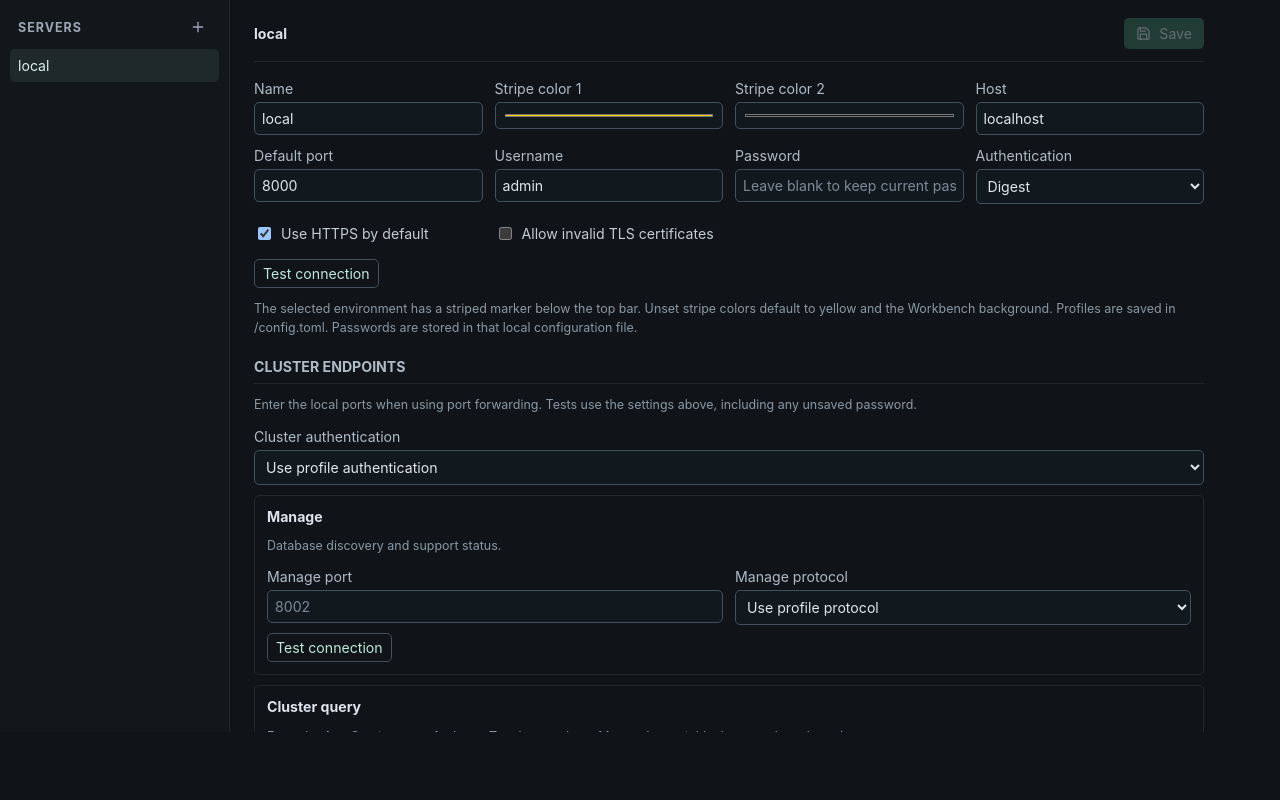
server workspace › tests an unsaved forwarded Manage endpoint and exposes the server error before saving
The image size is (1280, 800).
In the number field labelled "Manage port": (495, 607) top-left (267, 590), bottom-right (723, 623), type "18002"
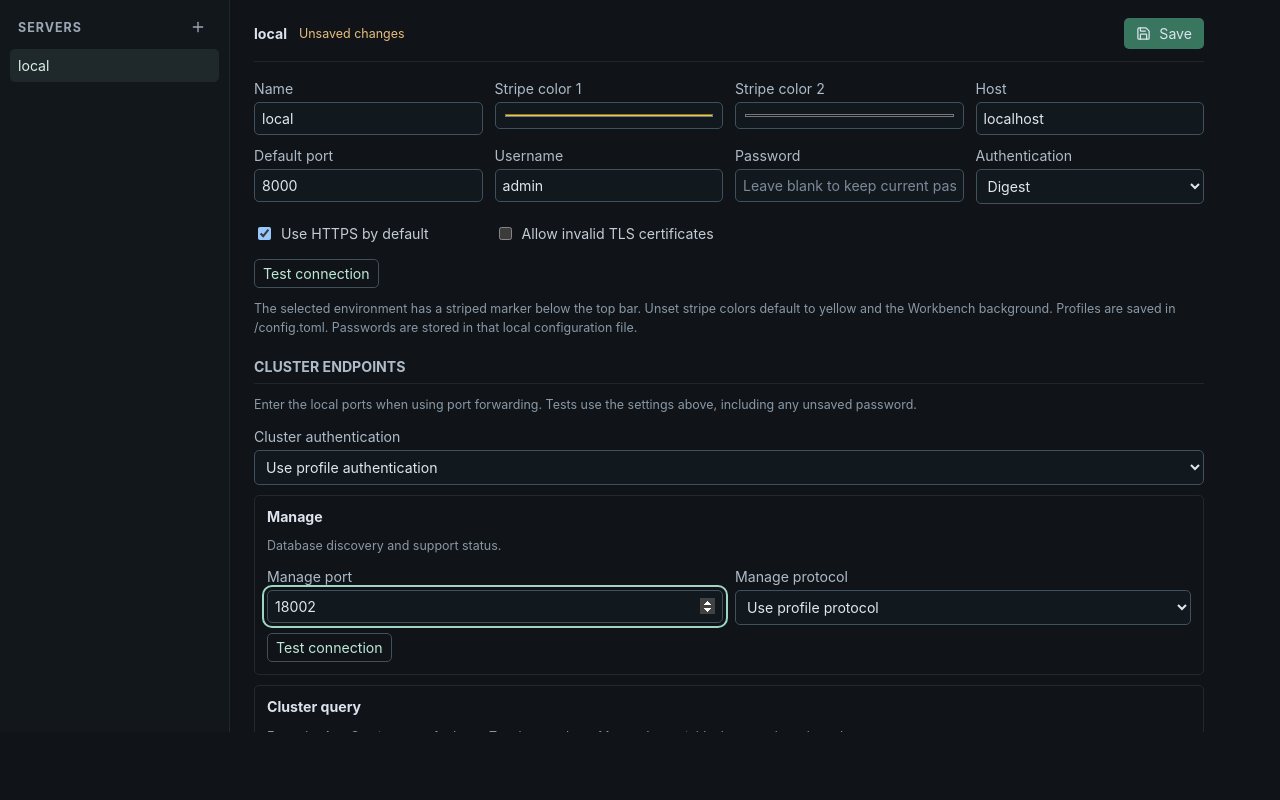
Select "HTTP" in the dropdown labelled "Manage protocol": (963, 608) top-left (735, 590), bottom-right (1191, 625)
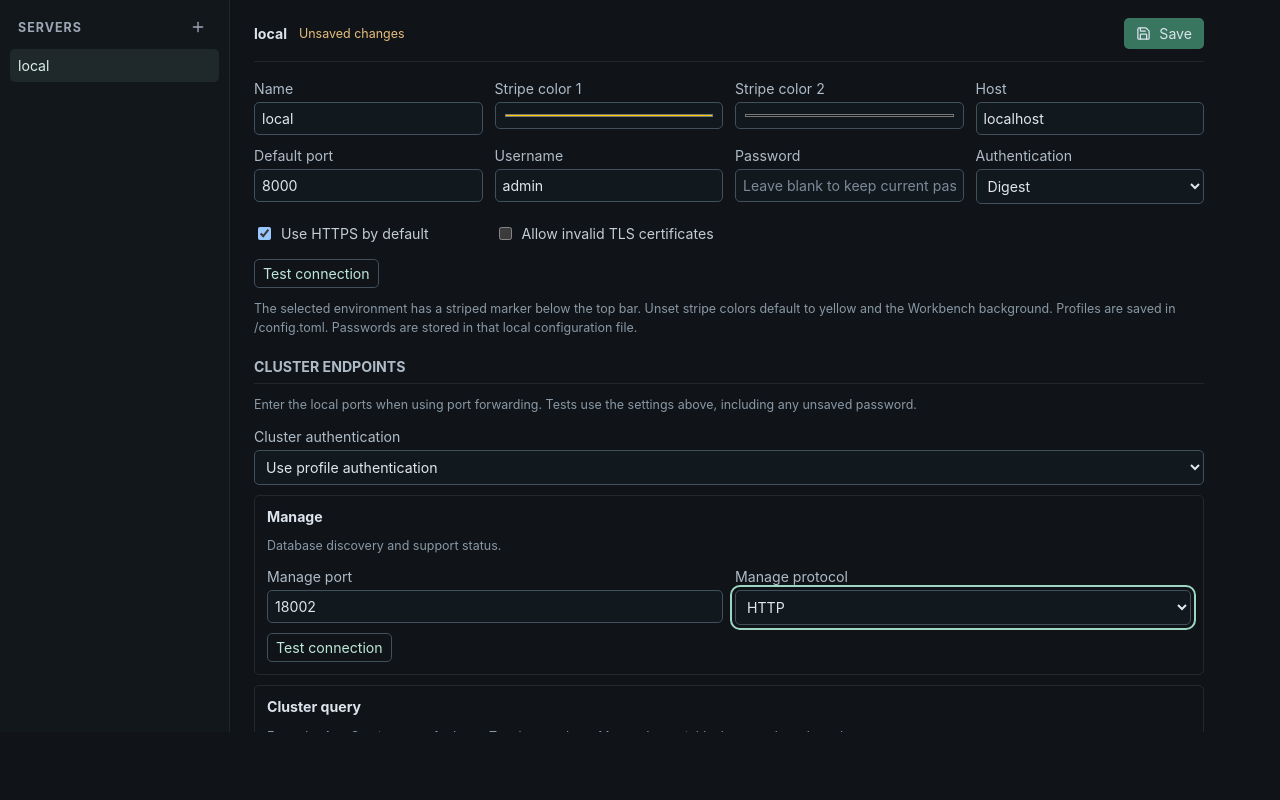
Click the button with aria-label "Test Manage connection": (329, 648) top-left (267, 633), bottom-right (392, 662)
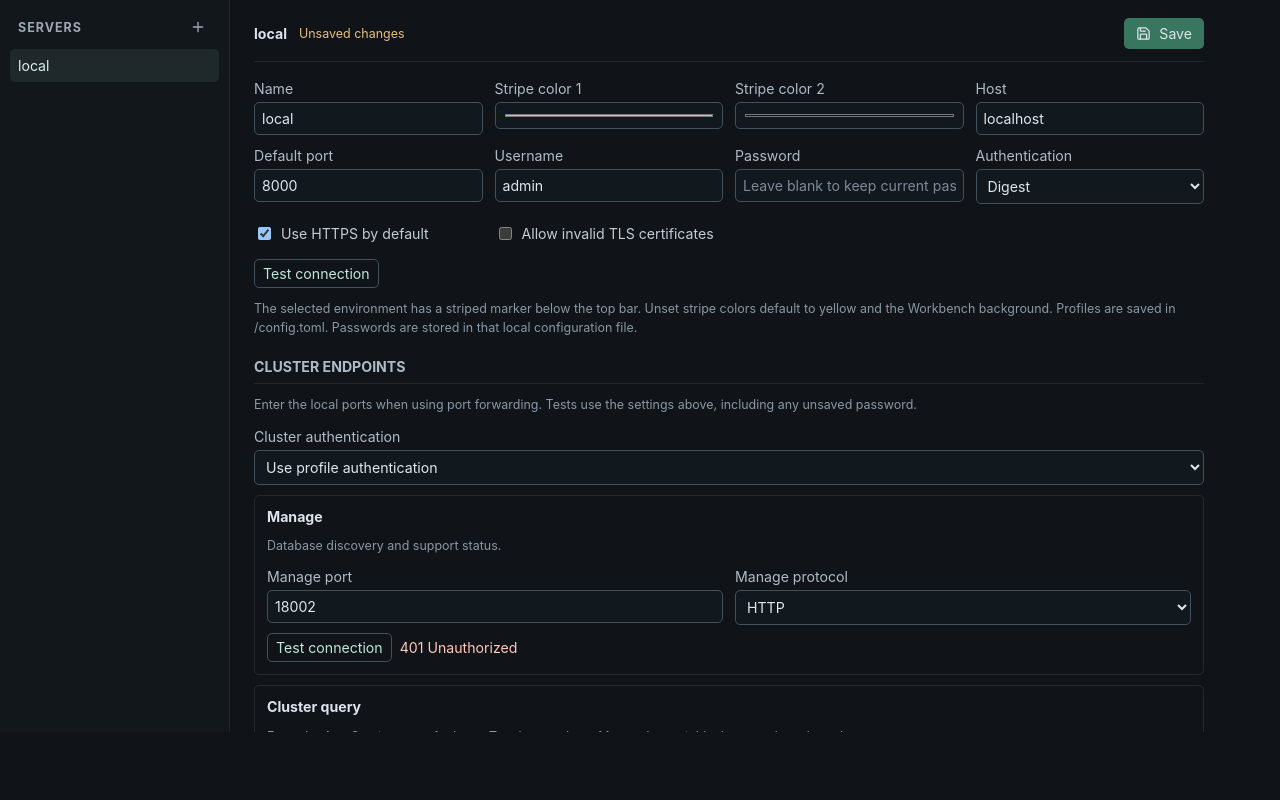
Now the message reads "401 Unauthorized", box top-left (400, 639), bottom-right (517, 656)
Click the button with aria-label "Test Manage connection": (329, 648) top-left (267, 633), bottom-right (392, 662)
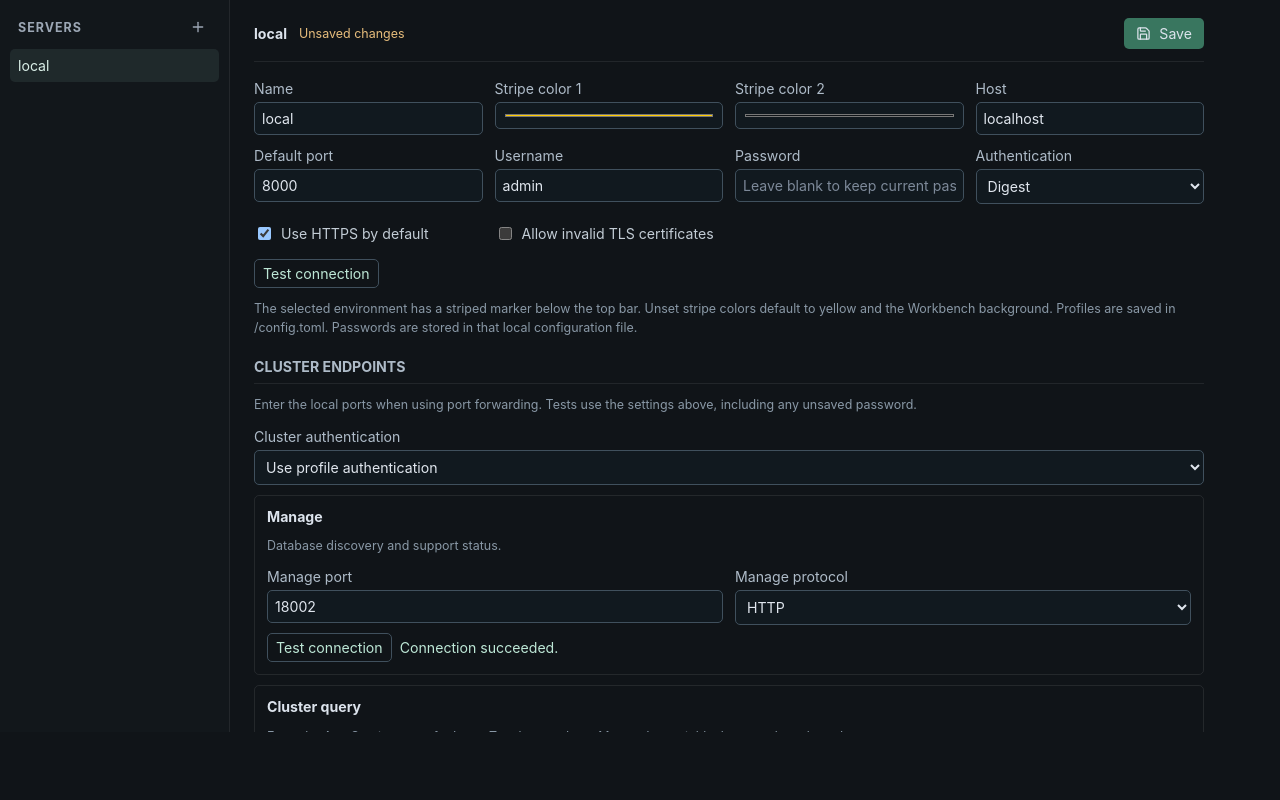
Now the message shows "Connection succeeded", box top-left (400, 639), bottom-right (558, 656)
